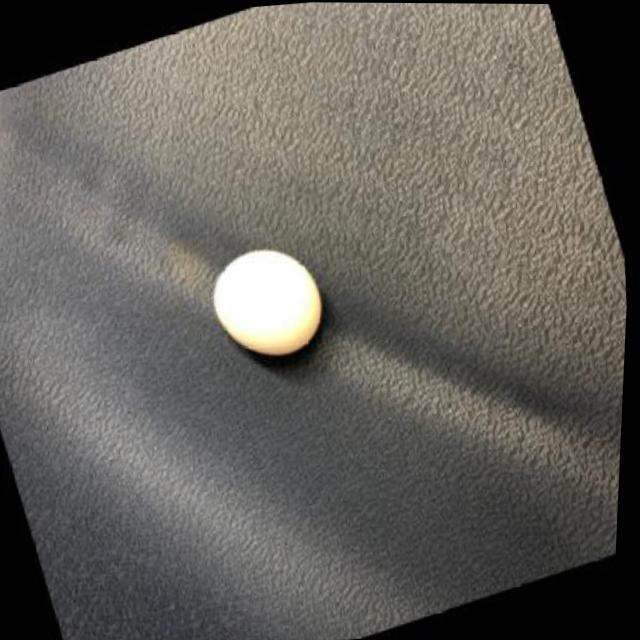egg: (199, 237, 338, 370)
